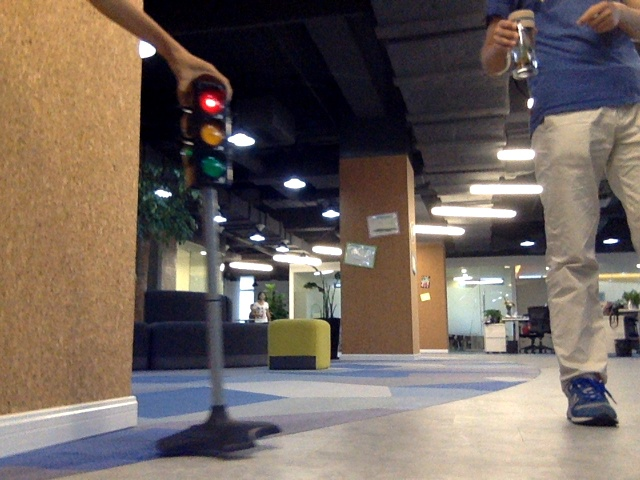red: (190, 87, 225, 180)
